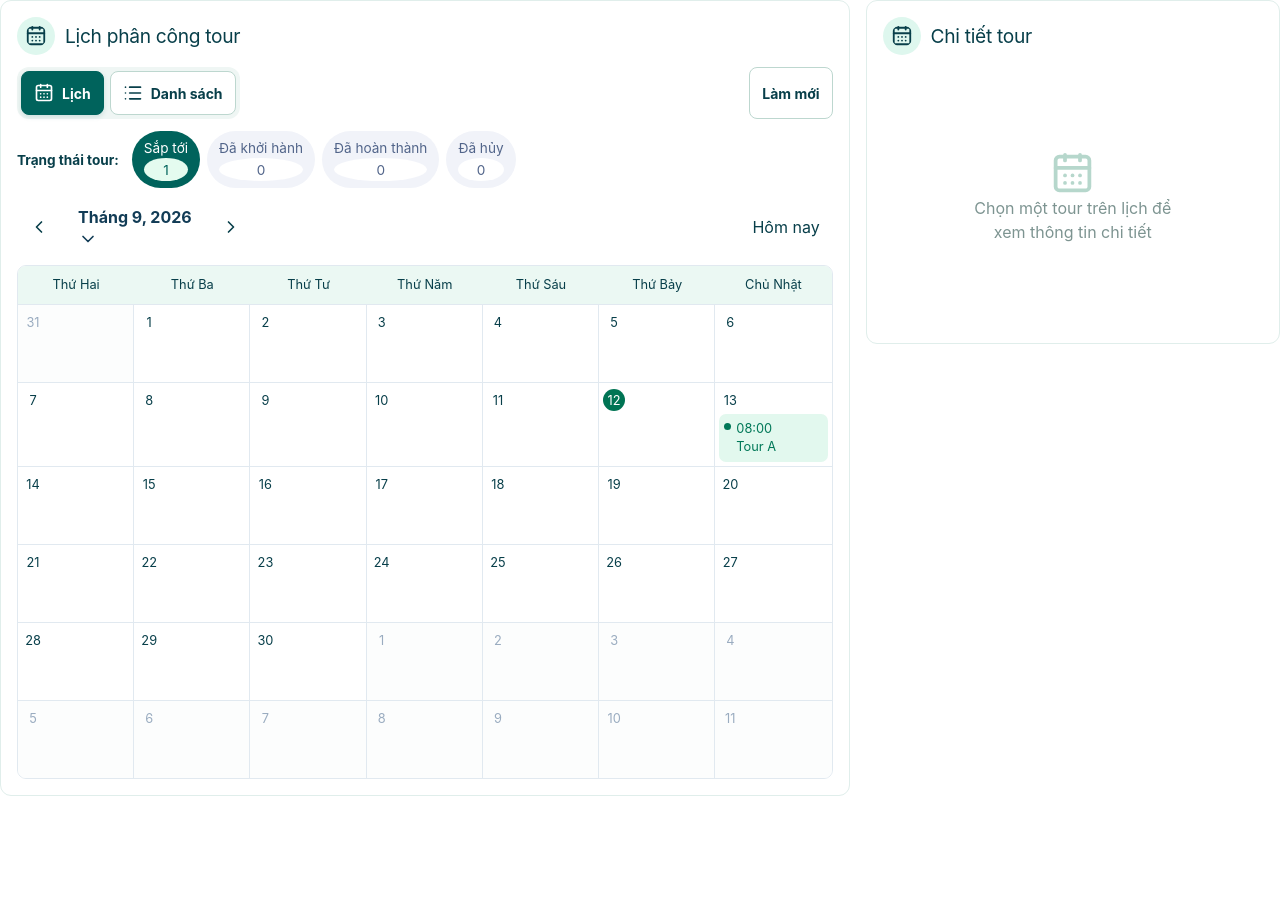
Test case: UC-GUI02 month calendar › keeps calendar on detail failure and supports retry
The width and height of the screenshot is (1280, 900).
Click the button "08:00 Tour A": (773, 438) 719,414 -> 828,462
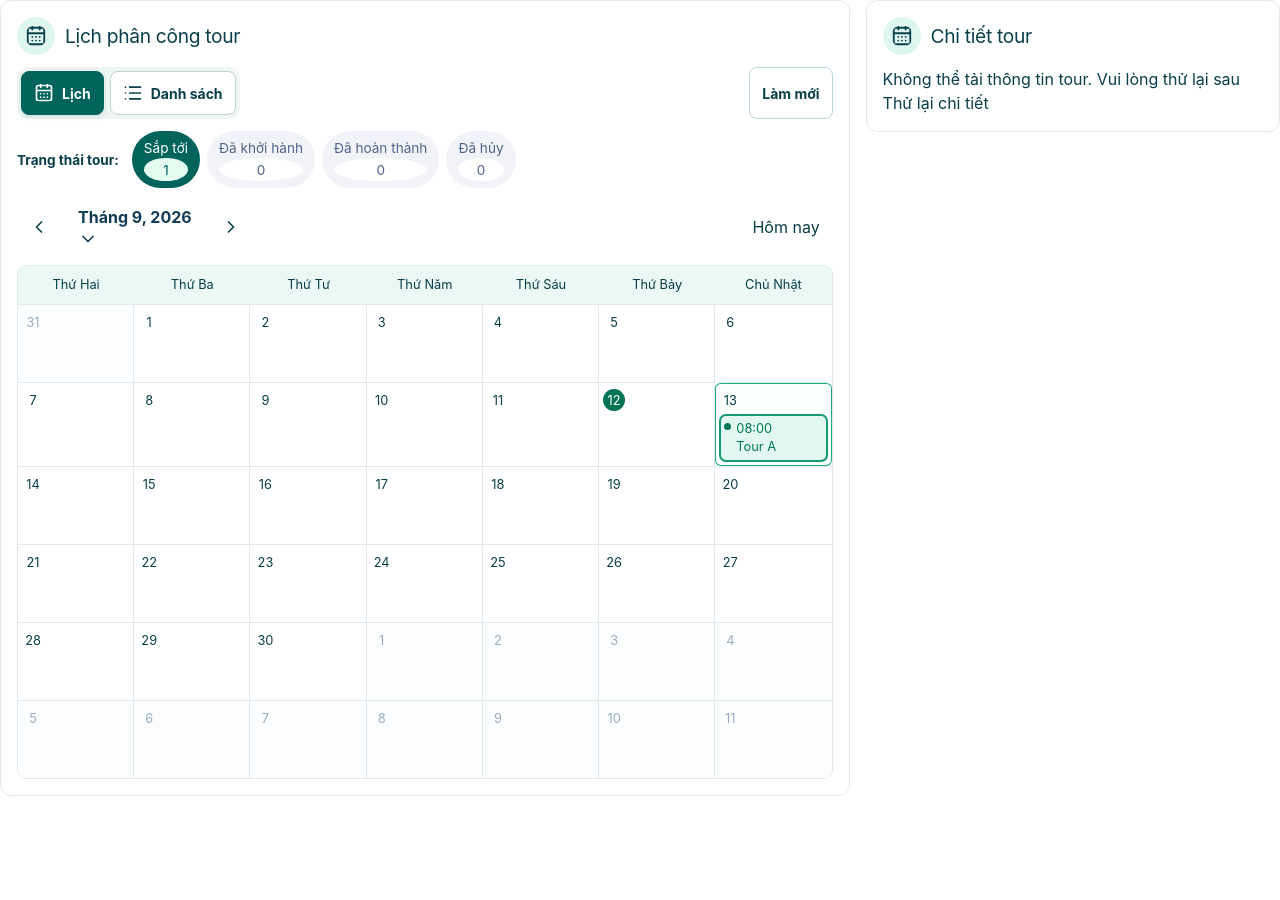
Check: the message shows "Không thể tải thông tin tour. Vui lòng thử lại sau", box 883,69 -> 1240,89
Click the button "Thử lại chi tiết": (936, 103) 883,91 -> 989,115
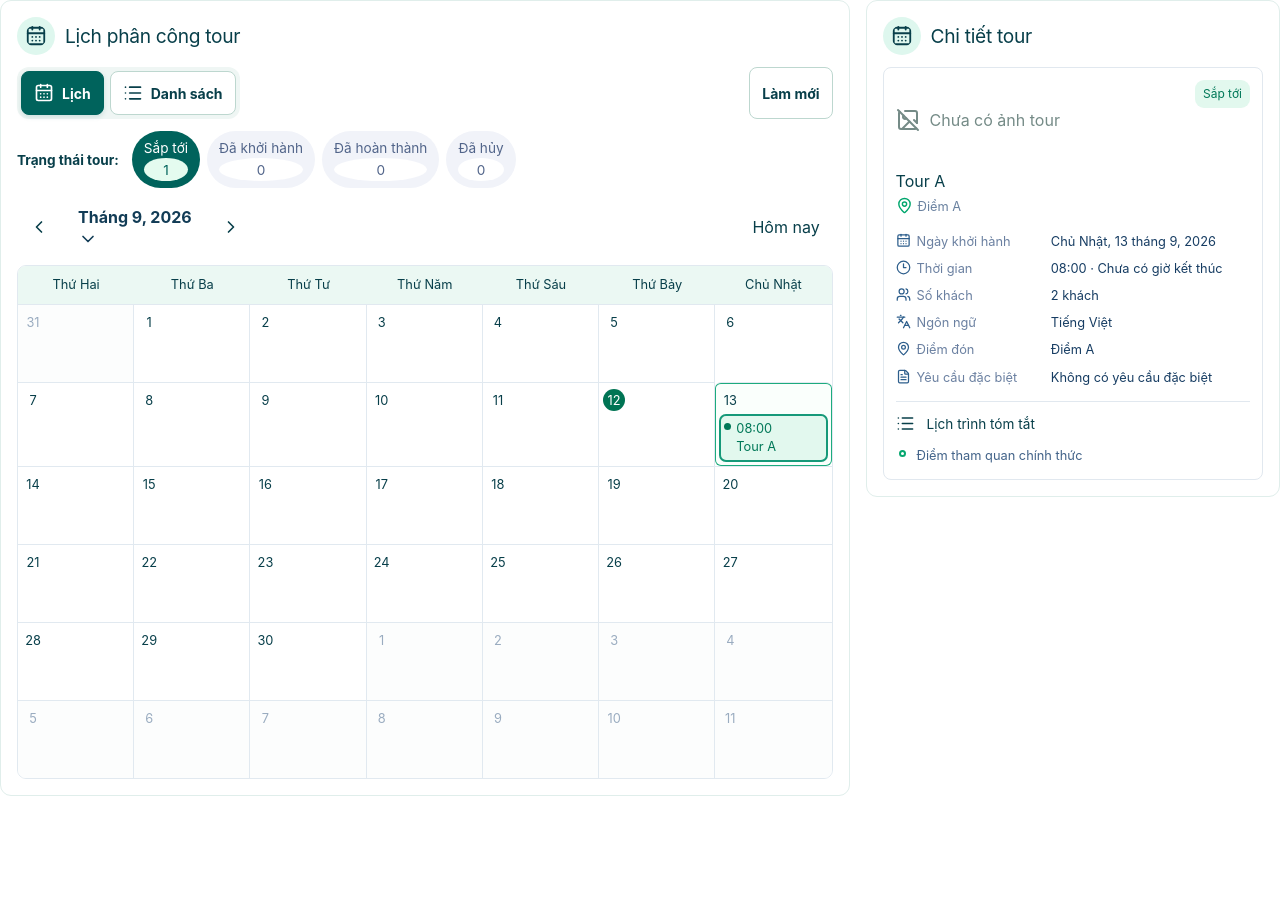
Check: the text "Điểm tham quan chính thức" is shown, box 917,446 -> 1083,467
